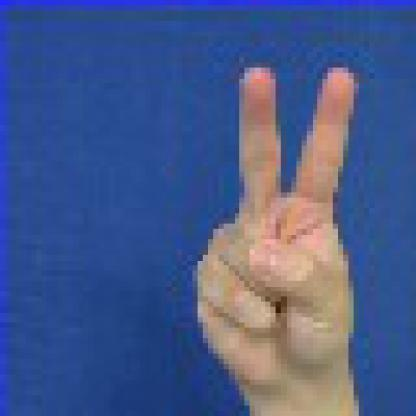two: (176, 56, 376, 416)
